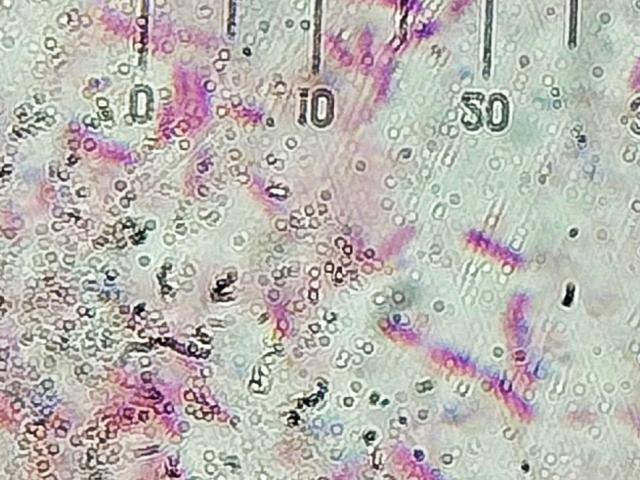E. coli: (485, 376, 542, 430), (389, 433, 440, 480), (503, 289, 536, 359), (466, 222, 516, 263), (372, 217, 417, 259), (261, 297, 297, 347), (429, 346, 476, 377), (118, 412, 172, 437), (82, 132, 130, 160), (236, 100, 280, 130), (133, 457, 188, 480), (166, 65, 187, 125), (188, 67, 212, 118), (185, 389, 231, 415), (329, 27, 357, 69), (126, 380, 170, 406), (176, 27, 216, 55), (102, 12, 140, 41), (0, 410, 31, 435), (379, 317, 411, 341), (356, 17, 375, 54), (379, 60, 392, 103)
